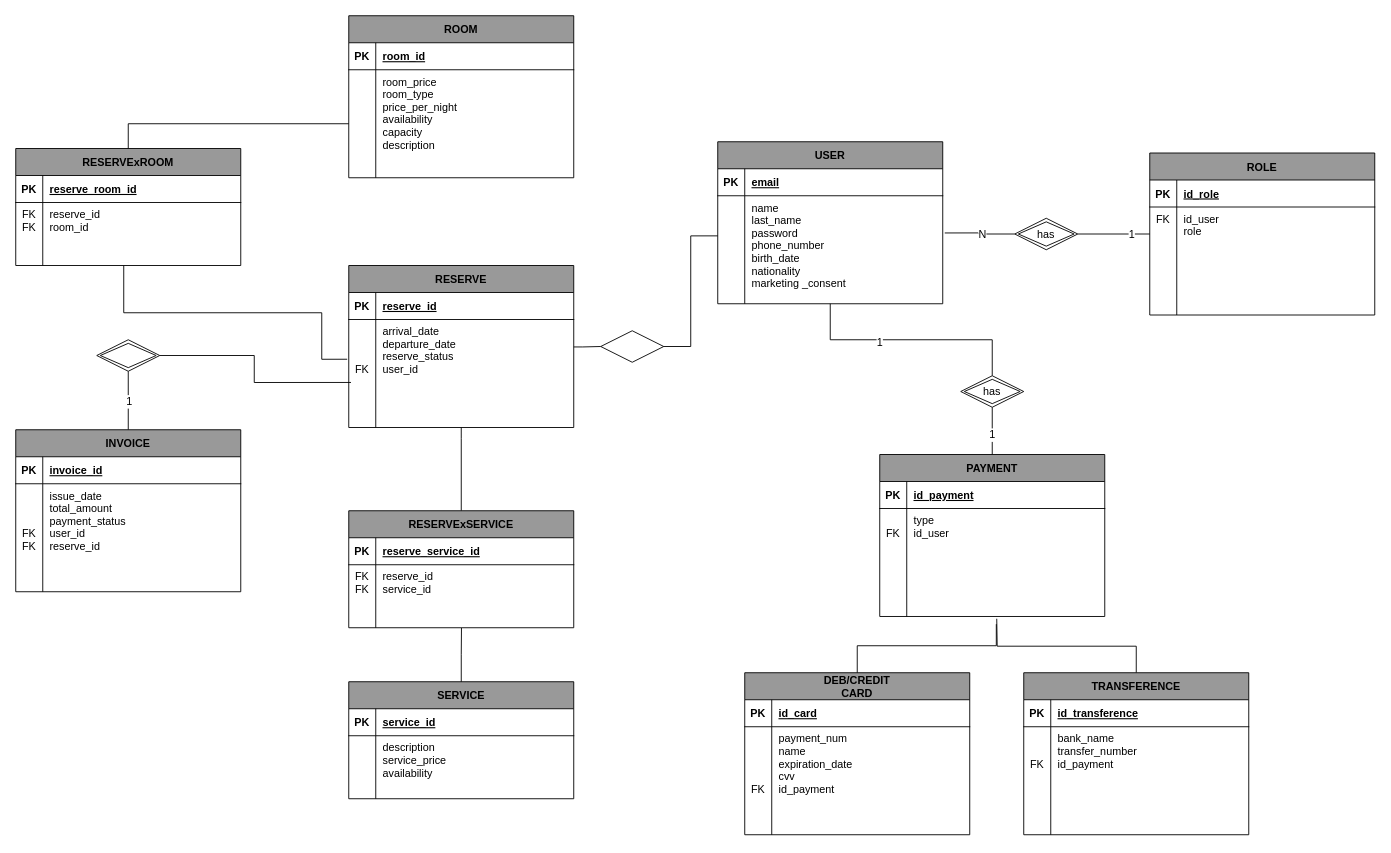
Some shapes in this 1391 by 853 pixel diagram are drawn without their labels. The centre of each missing label's shape, as x and y in pixels:
"do" belongs at (632,346).
"makes" belongs at (128,355).
